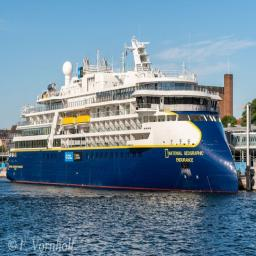cruises: (6, 34, 243, 198)
